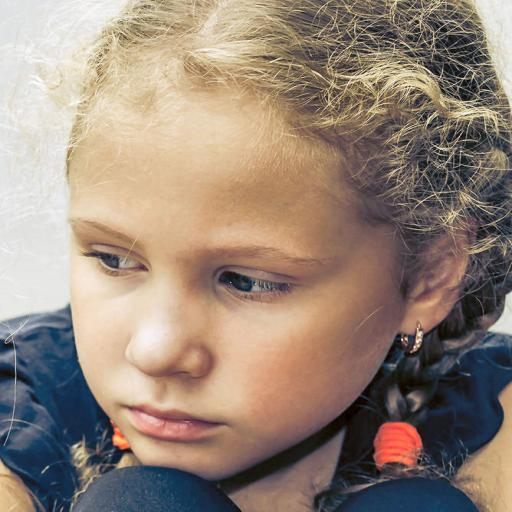Autism: (27, 6, 512, 501)
